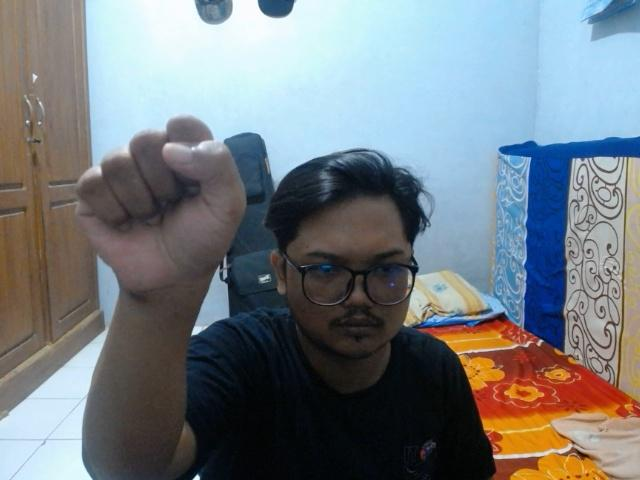Grab: (69, 110, 254, 301)
